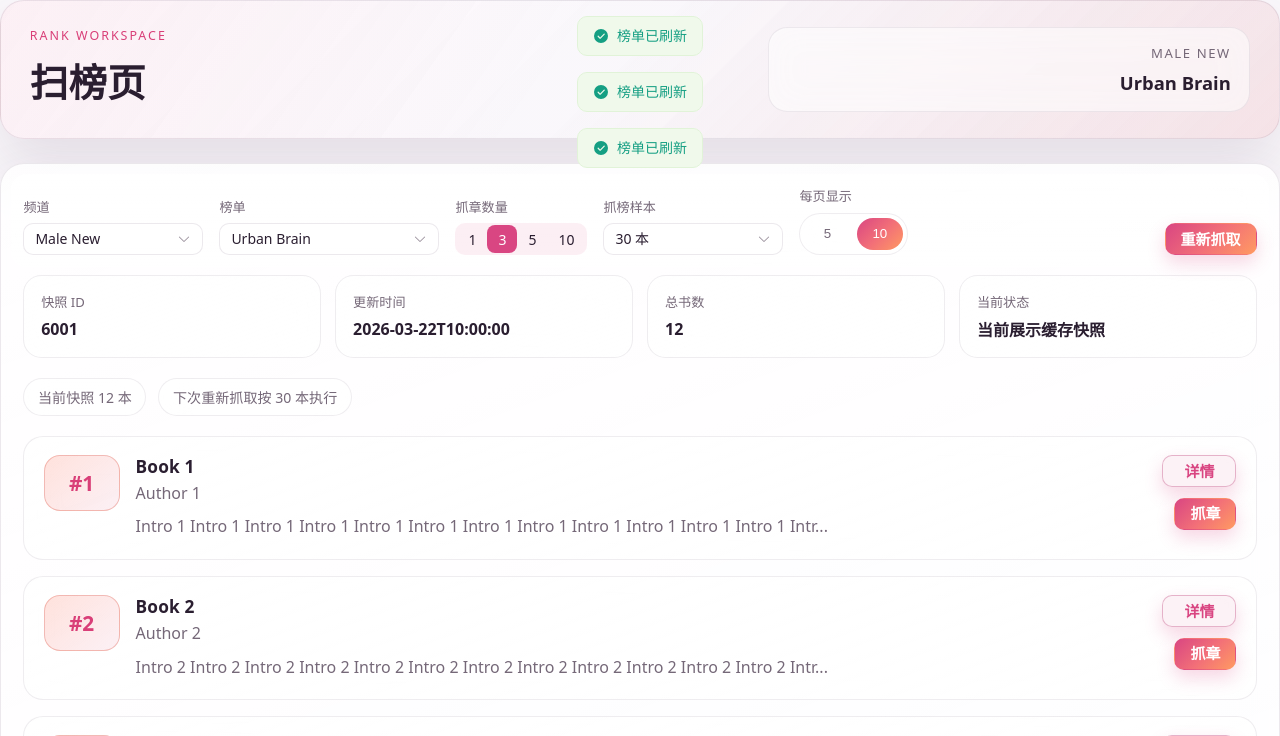
RankView › preserves the explicit refresh result after reloading the refreshed page
Click the button with test id "rank-force-refresh" at x=1211, y=239, box left=1165, top=223, right=1257, bottom=255
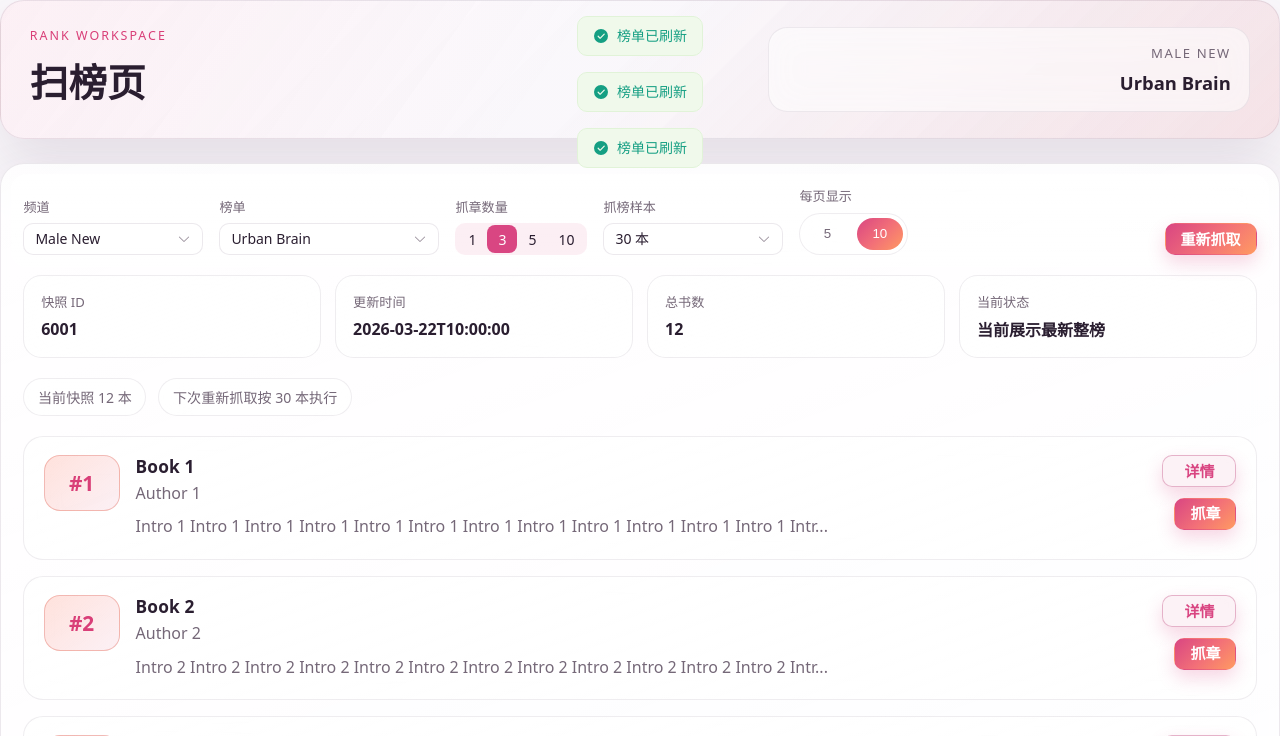
Now the text "当前展示最新整榜" is shown, box left=977, top=319, right=1105, bottom=341
Now the text "当前展示缓存快照" is gone
